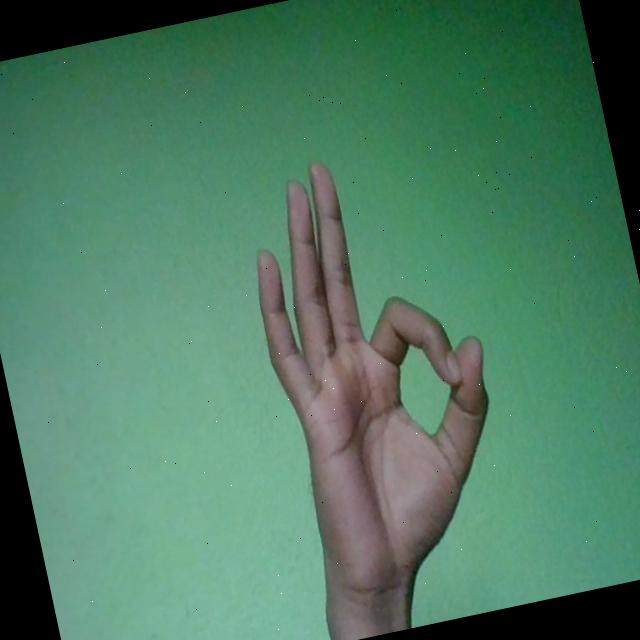Rock On: (231, 133, 528, 610)
